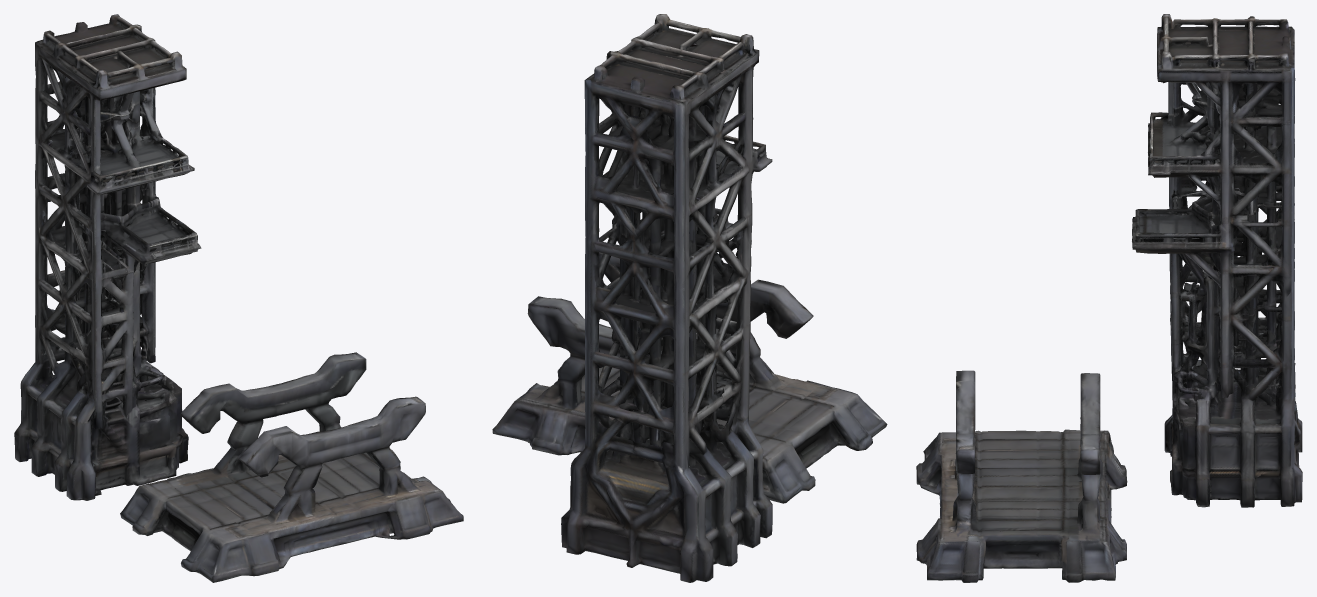
Rendered from Launchpad_Sentinel_1021052838_texture.fbx.
3 renders of one model, left to right at view 1: azimuth 30°, elevation 25°; view 2: azimuth 150°, elevation 25°; view 3: azimuth 270°, elevation 25°, orthographic. The views are drawn at different scales.
Visible parts, largest first — view 1: input; view 2: input; view 3: input.
Part boxes in pixels (x1=…): input: x1=14, y1=14, x2=463, y2=582; input: x1=492, y1=14, x2=887, y2=582; input: x1=916, y1=14, x2=1302, y2=582.
Size of the model in its own units: 133 by 193 by 153.
1 material, 1 textured.
